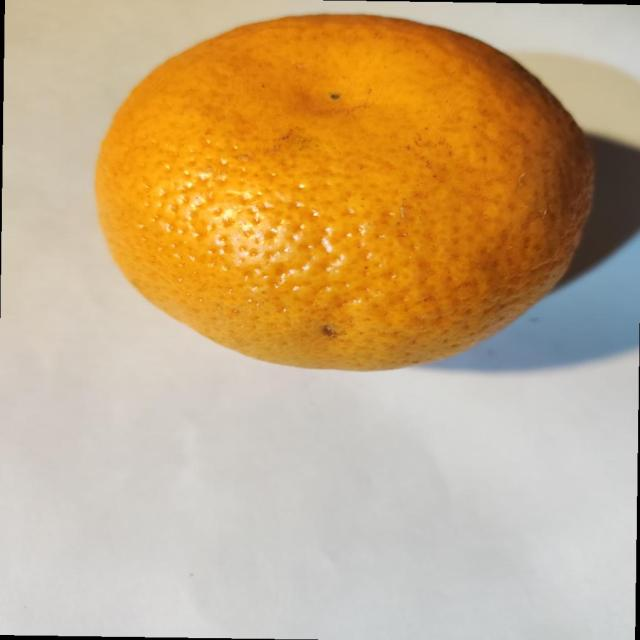fresh orange: (94, 13, 596, 372)
